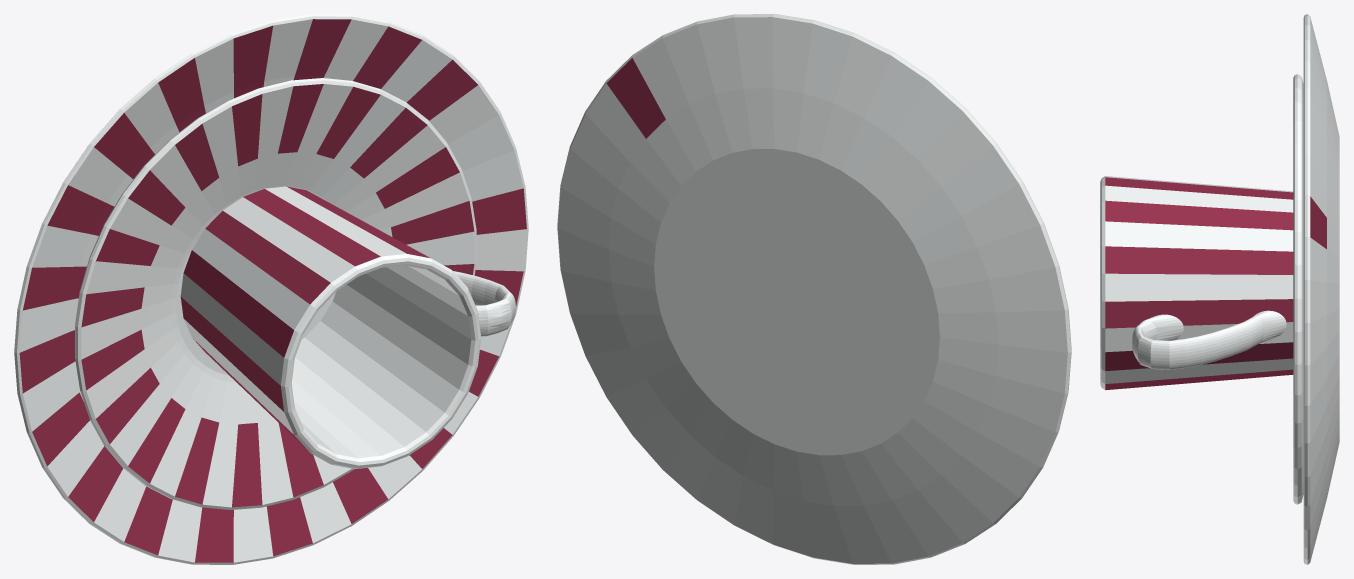
3 renders of one model, left to right at view 1: azimuth 30°, elevation 25°; view 2: azimuth 150°, elevation 25°; view 3: azimuth 270°, elevation 25°, orthographic. The views are drawn at different scales.
Parts seen in each view (by area): view 1: cup amp saucer; view 2: cup amp saucer; view 3: cup amp saucer.
Boxes of the visible parts, <box> form: cup amp saucer: <box>14,14,528,564</box>; cup amp saucer: <box>557,14,1071,564</box>; cup amp saucer: <box>1100,14,1339,564</box>.
Bounding box in the file's own units: 222 × 222 × 96.17.
